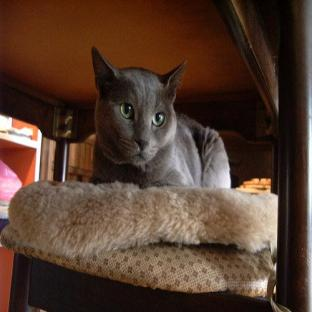Animal: (92, 47, 230, 186)
